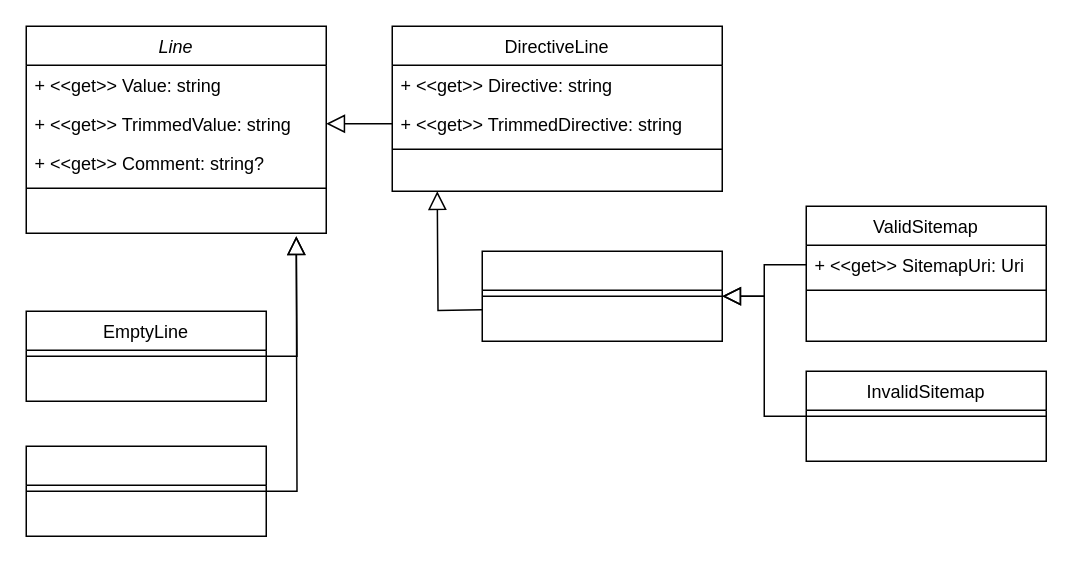
Some shapes in this 1073 by 563 pixel diagram are drawn without their labels. The shapes that lost their labels are listed below. From the top down, each one's centre as x and y in pixels, then its label:
At point (601, 295): "Sitemap".
At point (145, 490): "InvalidLine".
